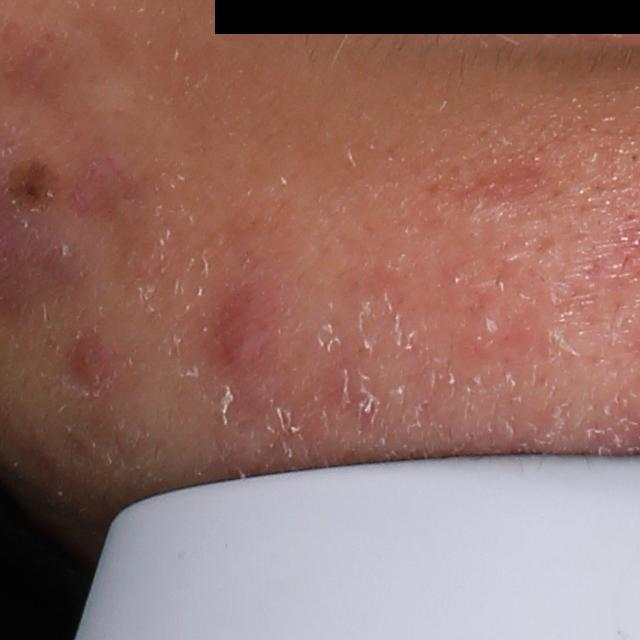atrophic_scar: (457, 166, 545, 205)
